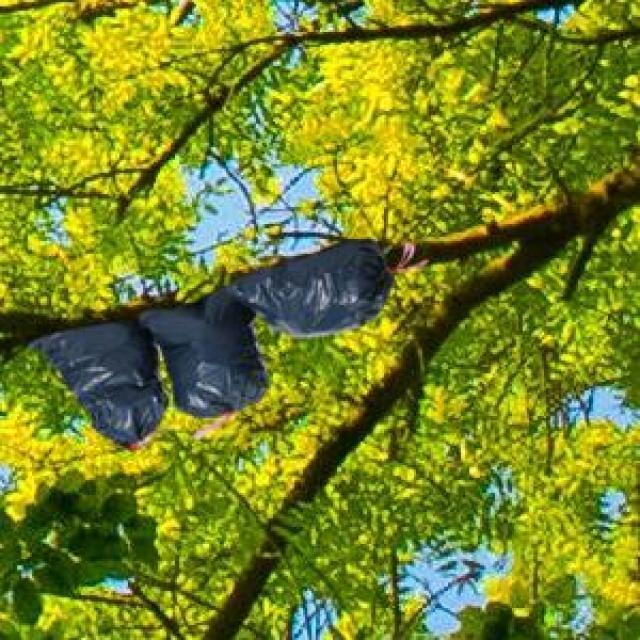waste: (34, 240, 392, 444)
